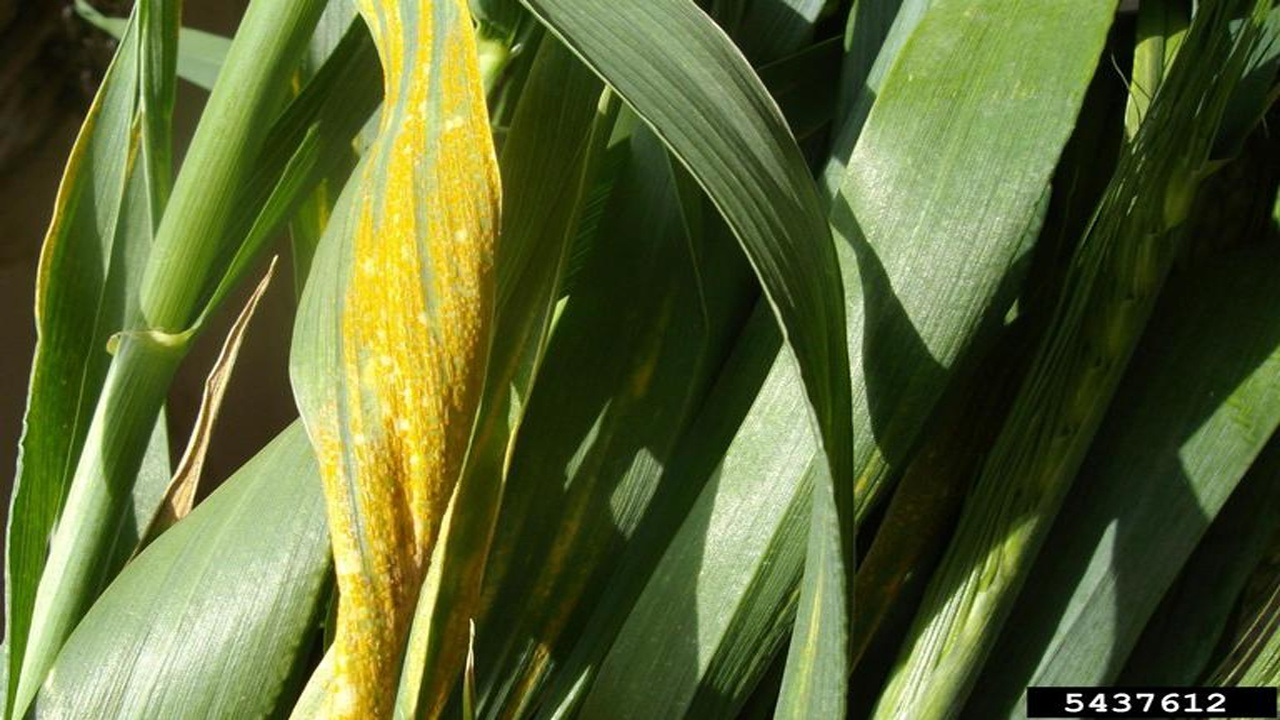stripe_rust: (286, 2, 506, 720)
